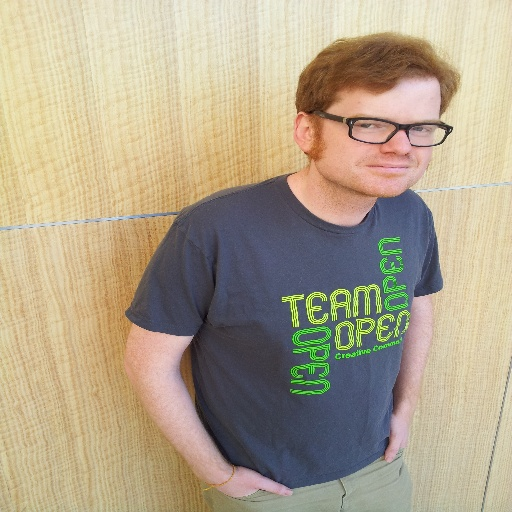hand: (209, 451, 284, 496), (386, 413, 409, 463)
